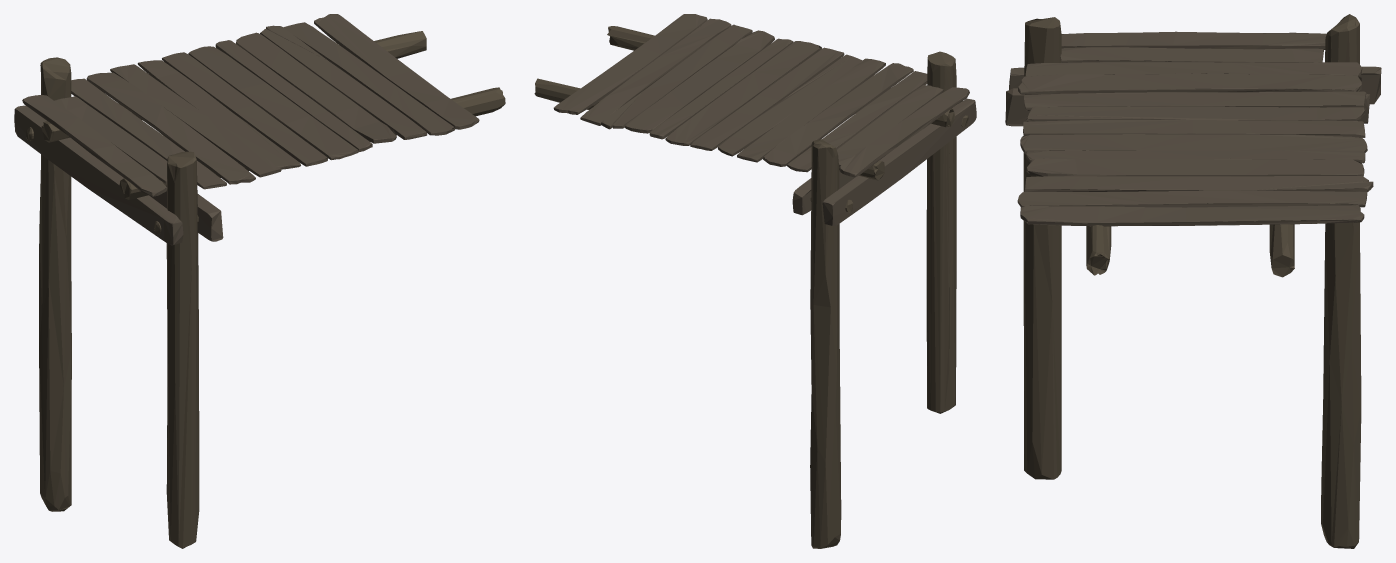
Rendered from pier-lod1.glb.
3 renders of one model, left to right at view 1: azimuth 30°, elevation 25°; view 2: azimuth 150°, elevation 25°; view 3: azimuth 270°, elevation 25°, orthographic. The views are drawn at different scales.
Size of the model in its own units: 3.38 by 3.84 by 2.49.
